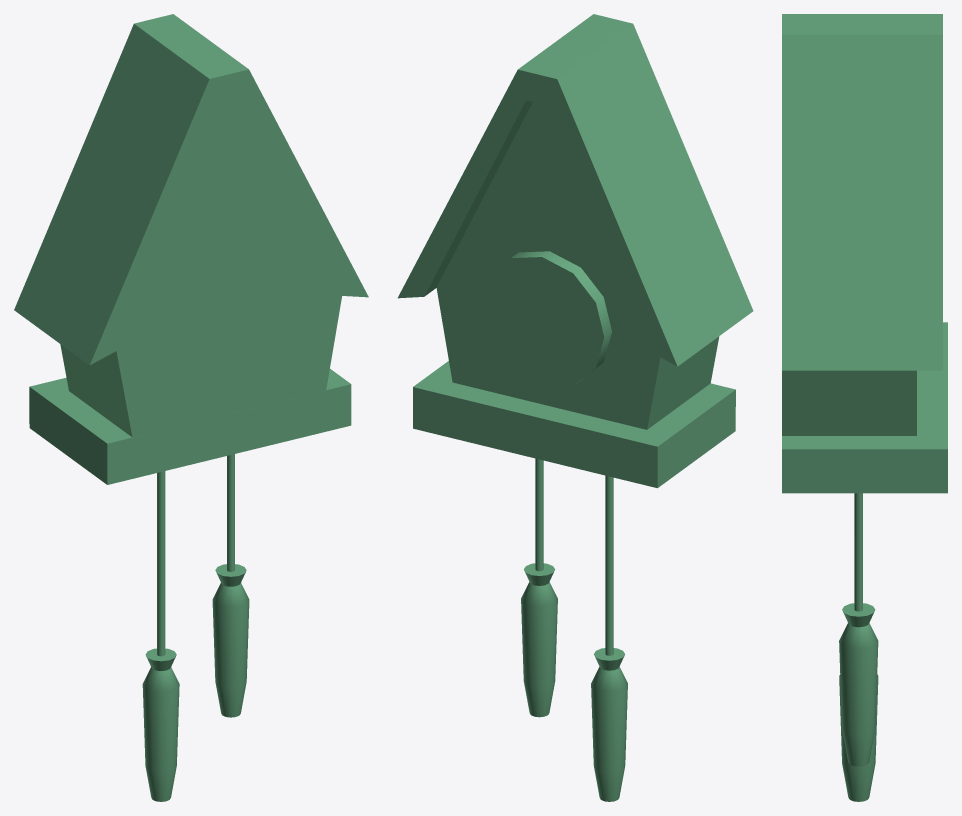
Rendered from CuckooClock.fbx.
3 views of the same model, side by side, from view 1: azimuth 30°, elevation 25°; view 2: azimuth 150°, elevation 25°; view 3: azimuth 270°, elevation 25° (orthographic). The views are drawn at different scales.
Parts seen in each view (by area): view 1: cc_02, cc_05, cc_06, cc_03, cc_04; view 2: cc_02, cc_01, cc_05, cc_06, cc_03, cc_04; view 3: cc_02, cc_05, cc_06, cc_04.
Boxes of the visible parts, x1,y1,x2,y2 form: cc_02: [14, 14, 368, 484]; cc_05: [212, 564, 249, 717]; cc_06: [142, 648, 179, 801]; cc_03: [157, 471, 165, 656]; cc_04: [227, 454, 234, 571]; cc_02: [398, 14, 753, 488]; cc_01: [480, 251, 611, 387]; cc_05: [521, 563, 557, 717]; cc_06: [591, 648, 627, 801]; cc_03: [605, 475, 613, 655]; cc_04: [535, 458, 543, 571]; cc_02: [782, 14, 947, 493]; cc_05: [839, 603, 878, 766]; cc_06: [839, 674, 878, 801]; cc_04: [854, 493, 862, 611].
Bounding box in the file's own units: 0.9347 × 2.37 × 0.4516.
